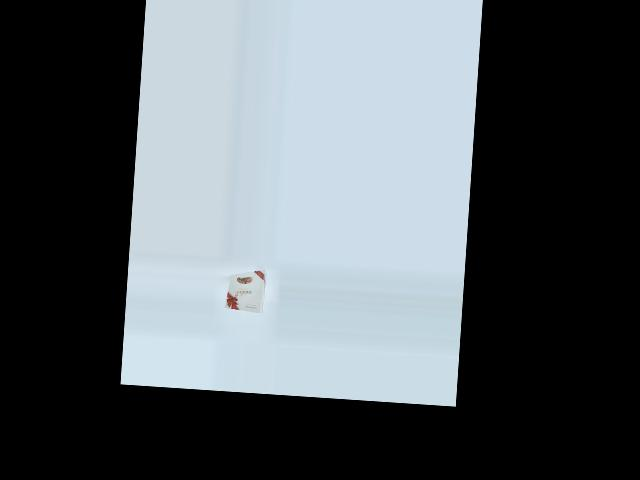chocolate: (224, 265, 275, 313)
